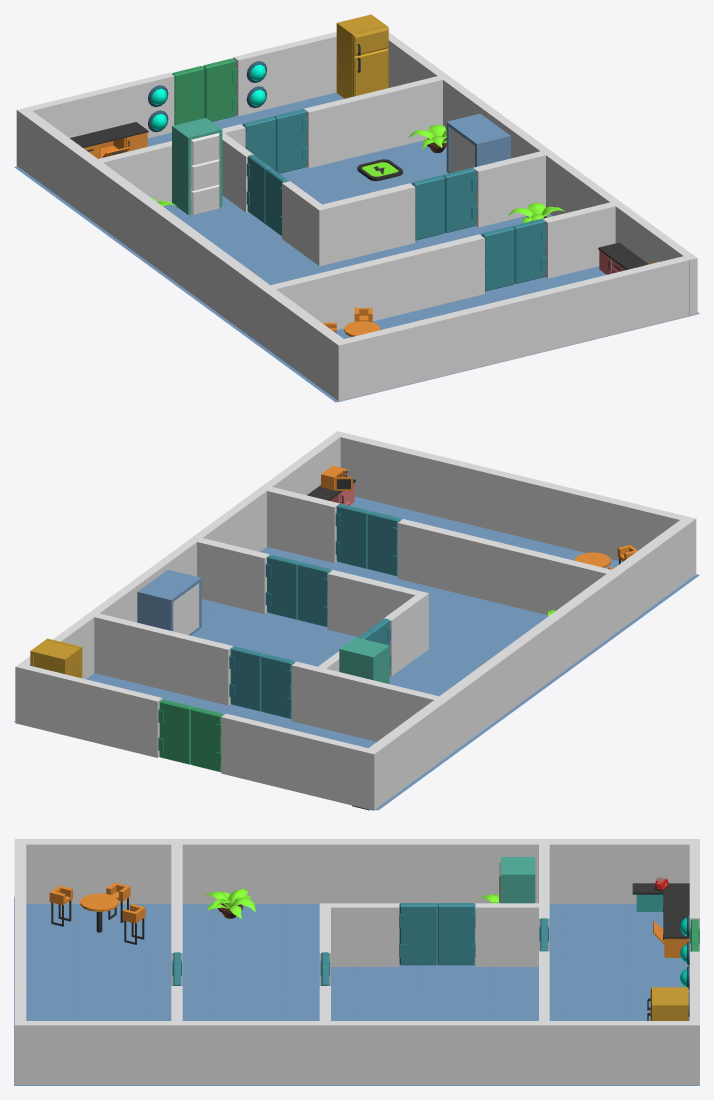
Rendered from maps 05.fbx.
3 views of the same model, one above another, from view 1: azimuth 30°, elevation 25°; view 2: azimuth 150°, elevation 25°; view 3: azimuth 270°, elevation 25° (orthographic). The views are drawn at different scales.
Visible parts, largest first — view 1: polySurface154, polySurface157, polySurface158, polySurface152, polySurface167, polySurface156, polySurface150, polySurface159, polySurface160, polySurface189, polySurface149, polySurface153 (+17 smaller); view 2: polySurface158, polySurface157, polySurface154, polySurface152, polySurface159, polySurface156, polySurface160, polySurface150, polySurface167, polySurface151, polySurface153, polySurface149 (+13 smaller); view 3: polySurface158, polySurface156, polySurface157, polySurface149, polySurface177, polySurface174, polySurface154, polySurface189, polySurface99, polySurface152, polySurface127, polySurface167 (+12 smaller).
Boxes of the visible parts, x1=… form: polySurface154: x1=333, y1=256, x2=688, y2=401; polySurface157: x1=17, y1=108, x2=348, y2=396; polySurface158: x1=14, y1=92, x2=699, y2=402; polySurface152: x1=260, y1=234, x2=484, y2=346; polySurface167: x1=314, y1=150, x2=551, y2=265; polySurface156: x1=388, y1=32, x2=697, y2=316; polySurface150: x1=304, y1=76, x2=442, y2=168; polySurface159: x1=16, y1=72, x2=174, y2=168; polySurface160: x1=233, y1=32, x2=336, y2=116; polySurface189: x1=172, y1=118, x2=222, y2=214; polySurface149: x1=222, y1=132, x2=327, y2=266; polySurface153: x1=543, y1=202, x2=615, y2=278; polySurface158: x1=14, y1=496, x2=699, y2=810; polySurface157: x1=364, y1=518, x2=691, y2=806; polySurface154: x1=340, y1=433, x2=696, y2=577; polySurface152: x1=397, y1=519, x2=622, y2=628; polySurface159: x1=221, y1=713, x2=378, y2=810; polySurface156: x1=15, y1=431, x2=345, y2=725; polySurface160: x1=23, y1=665, x2=162, y2=757; polySurface150: x1=94, y1=613, x2=233, y2=705; polySurface167: x1=192, y1=538, x2=428, y2=636; polySurface151: x1=291, y1=661, x2=449, y2=757; polySurface153: x1=267, y1=487, x2=339, y2=563; polySurface149: x1=314, y1=591, x2=428, y2=676; polySurface158: x1=14, y1=896, x2=698, y2=1085; polySurface156: x1=14, y1=1021, x2=699, y2=1085; polySurface157: x1=14, y1=839, x2=699, y2=903; polySurface149: x1=319, y1=903, x2=549, y2=966; polySurface177: x1=399, y1=903, x2=437, y2=965; polySurface174: x1=437, y1=903, x2=475, y2=965; polySurface154: x1=14, y1=839, x2=26, y2=1020; polySurface189: x1=499, y1=857, x2=535, y2=903; polySurface99: x1=653, y1=891, x2=689, y2=957; polySurface152: x1=171, y1=839, x2=182, y2=985; polySurface127: x1=647, y1=987, x2=688, y2=1020; polySurface167: x1=319, y1=903, x2=330, y2=1023.
Size of the model in its own units: 59.86 by 13.13 by 91.75.
11 materials, 11 textured.
